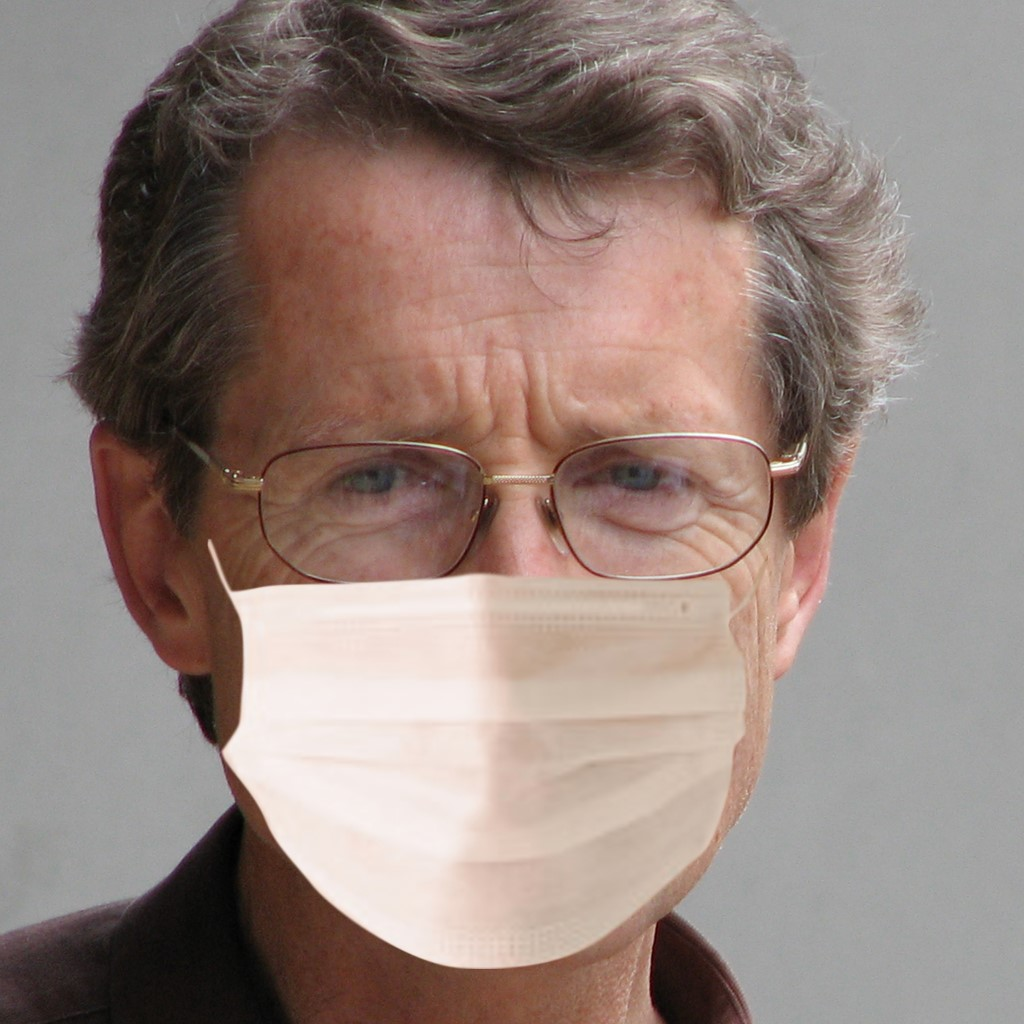con_mascara: (125, 93, 838, 995)
